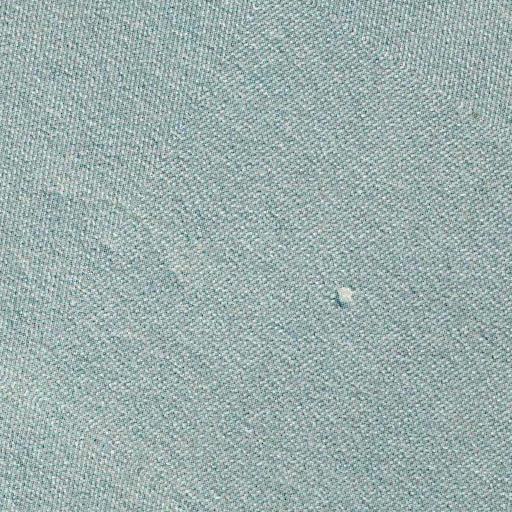knot: (319, 274, 371, 316)
